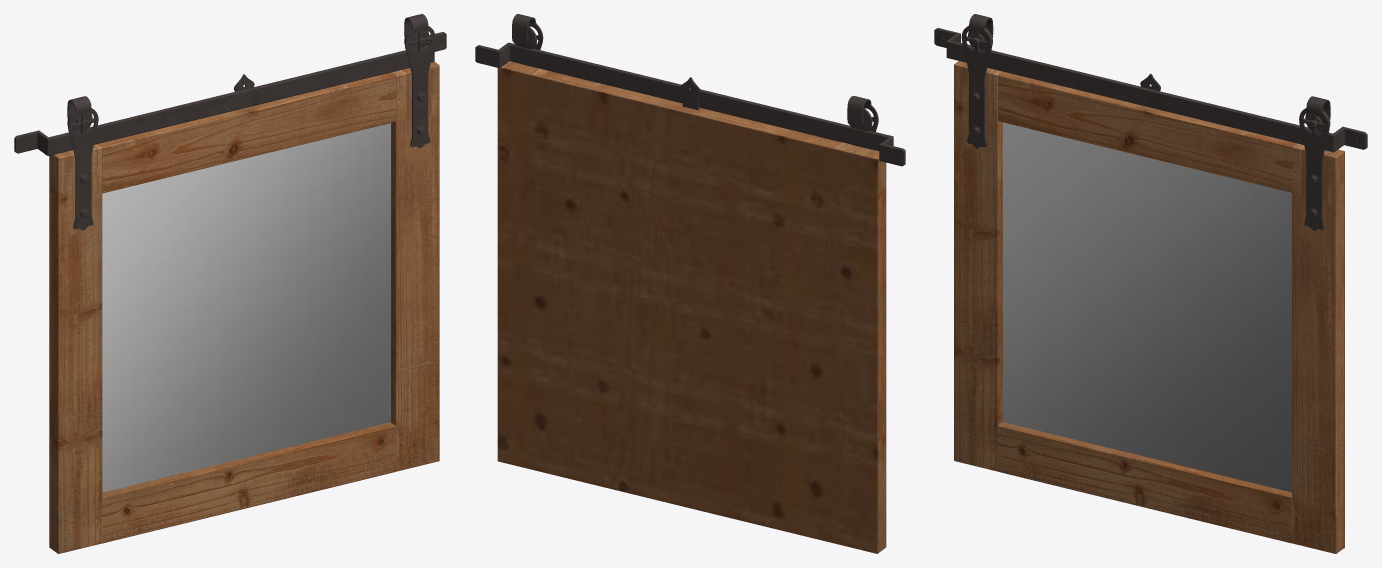
Rendered from abo-B073WH6N3Q.glb.
3 renders of one model, left to right at view 1: azimuth 30°, elevation 25°; view 2: azimuth 150°, elevation 25°; view 3: azimuth 330°, elevation 25°, orthographic.
Size of the model in its own units: 0.805 by 0.8 by 0.054.
Materials: 1 (1 with a texture image).
